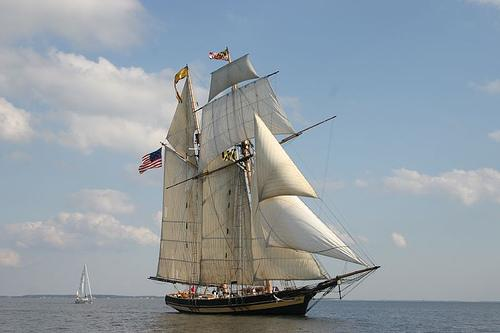Ship: (140, 52, 382, 317), (76, 264, 95, 306)
